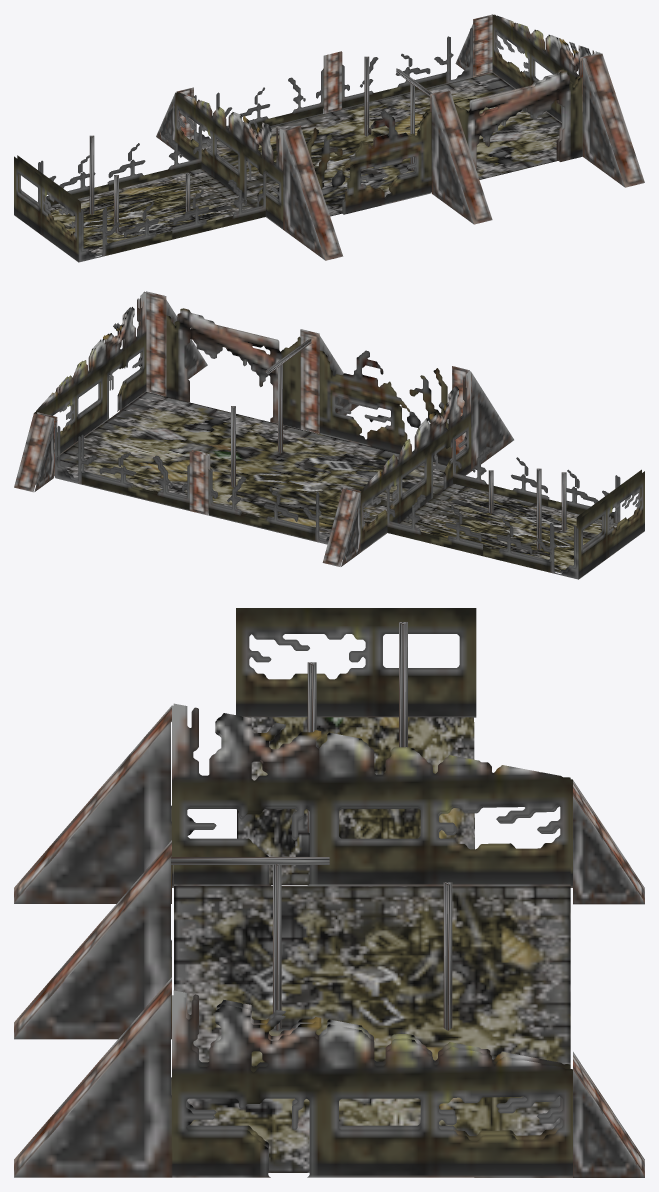
The model's file is d_gatecontrol_dam.glb.
The picture shows the model from 3 angles, top to bottom: view 1: azimuth 30°, elevation 25°; view 2: azimuth 150°, elevation 25°; view 3: azimuth 270°, elevation 25°; orthographic projection. The views are drawn at different scales.
Parts seen in each view (by area): view 1: Gatecontrol_damaged01; view 2: Gatecontrol_damaged01; view 3: Gatecontrol_damaged01.
Boxes of the visible parts, x1,y1,x2,y2 form: Gatecontrol_damaged01: (14, 14, 644, 262); Gatecontrol_damaged01: (14, 291, 644, 579); Gatecontrol_damaged01: (14, 608, 644, 1177).
Bounding box in the file's own units: 23.61 × 4.44 × 13.7.
2 materials, 2 textured.
